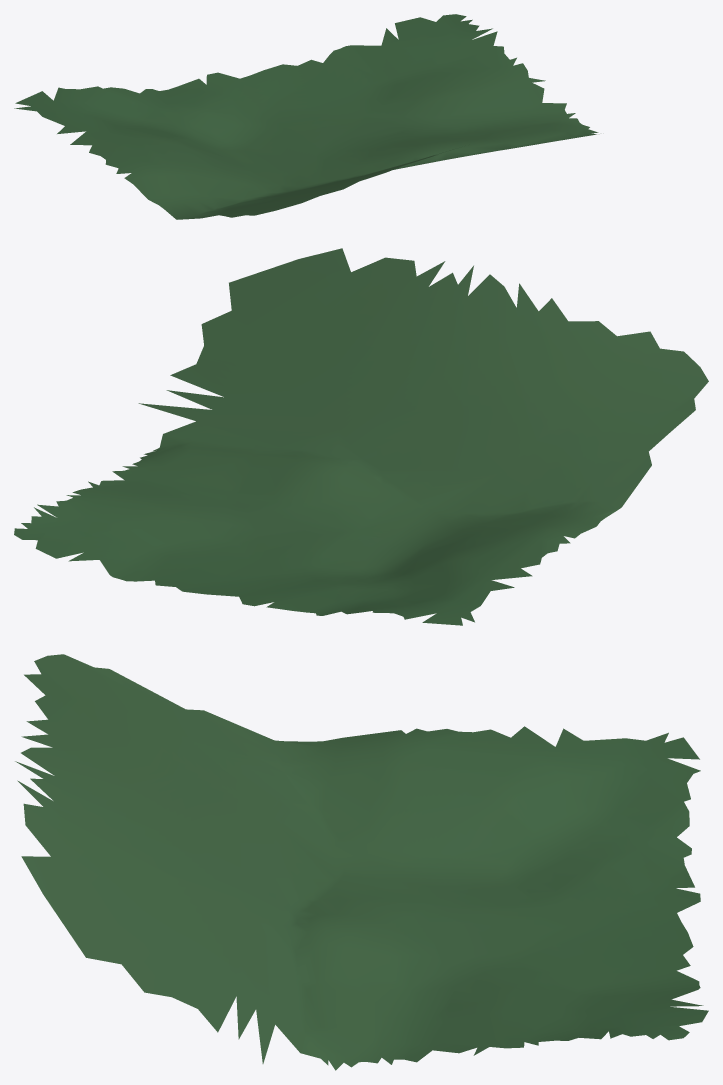
File: payo_land_x1_y9_lod1.glb
3 views of the same model, one above another, from view 1: azimuth 30°, elevation 25°; view 2: azimuth 150°, elevation 25°; view 3: azimuth 270°, elevation 25° (orthographic). The views are drawn at different scales.
Visible parts, largest first — view 1: payo_land_x1_y9; view 2: payo_land_x1_y9; view 3: payo_land_x1_y9.
Boxes of the visible parts, left/top/right/bottom form: payo_land_x1_y9: left=14, top=14, right=598, bottom=219; payo_land_x1_y9: left=14, top=248, right=708, bottom=625; payo_land_x1_y9: left=15, top=654, right=708, bottom=1070.
Size of the model in its own units: 286 by 79.82 by 273.
